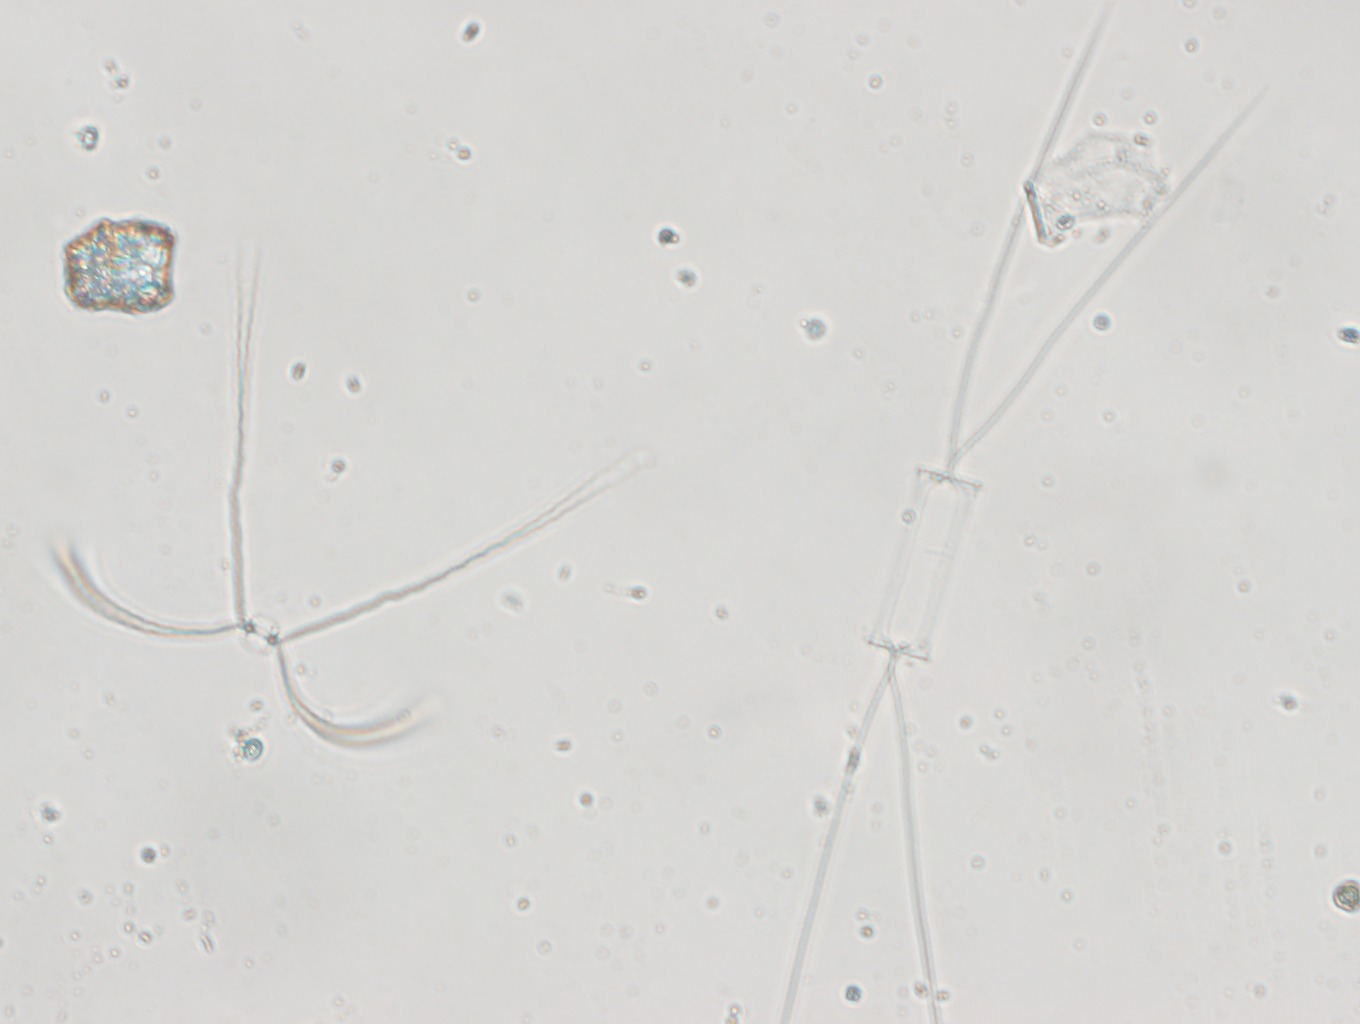chaetoceros: (773, 1, 1283, 1024), (38, 238, 635, 752)
